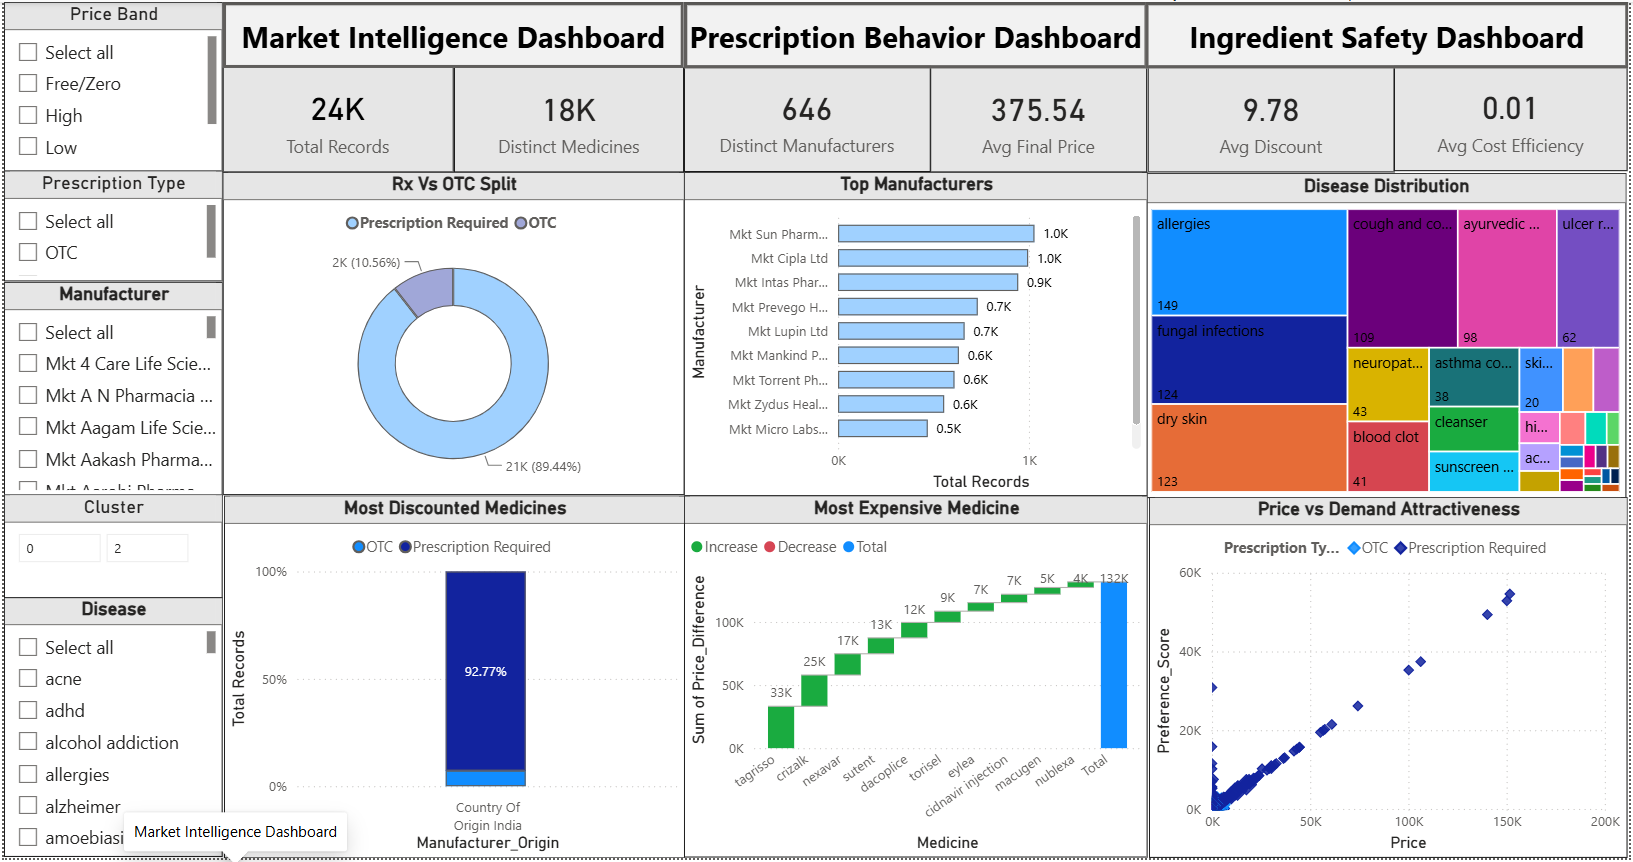

Layout of this report page (visuals, bound fields, positions):
{"tool":"powerbi","page":{"name":"Market Intelligence Dashboard","canvas":[1480,780],"ordinal":0},"visuals":[{"type":"treemap","title":"Disease Distribution","fields":{"Values":["clean_data.Total Records"],"Group":["clean_data.Disease"]},"box":[1040,155.7,438.6,295.7],"z":0},{"type":"card","fields":{"Values":["clean_data.Total Records"]},"box":[199.5,59.2,210.3,95.7],"z":1000},{"type":"card","fields":{"Values":["clean_data.Distinct Medicines"]},"box":[409.5,59.2,209.9,96.1],"z":2000},{"type":"card","fields":{"Values":["clean_data.Distinct Manufacturers"]},"box":[619.8,58.7,224.5,96.8],"z":3000},{"type":"card","fields":{"Values":["clean_data.Avg Final Price"]},"box":[844.5,59.2,197.6,96.1],"z":4000},{"type":"card","fields":{"Values":["clean_data.Avg Discount"]},"box":[1042.1,59.2,225,96.1],"z":5000},{"type":"card","fields":{"Values":["clean_data.Avg Cost Efficiency"]},"box":[1267.1,58.6,212.9,95.7],"z":6000},{"type":"clusteredBarChart","title":"Top Manufacturers","fields":{"Y":["clean_data.Total Records"],"Category":["clean_data.Manufacturer"]},"box":[619.4,155.3,422.6,295],"z":7000},{"type":"scatterChart","title":"Price vs Demand Attractiveness","fields":{"X":["clean_data.Price"],"Y":["clean_data.Preference_Score"],"Series":["clean_data.Prescription Type"],"Size":["Sum(clean_data.Ingredient_Count)"]},"box":[1042.9,451.4,435.7,328.6],"z":8000},{"type":"hundredPercentStackedColumnChart","title":"Most Discounted Medicines","fields":{"Series":["clean_data.Prescription Type"],"Category":["clean_data.Manufacturer_Origin"],"Y":["clean_data.Total Records"]},"box":[200,450,420,330],"z":9000},{"type":"waterfallChart","title":"Most Expensive Medicine","fields":{"Y":["Sum(clean_data.Price_Difference)"],"Category":["clean_data.Medicine"]},"box":[619.4,450.3,422.6,329.3],"z":10000},{"type":"slicer","title":"Disease","fields":{"Values":["clean_data.Disease"]},"box":[0,542.7,199,236.6],"z":11000},{"type":"slicer","title":"Manufacturer","fields":{"Values":["clean_data.Manufacturer"]},"box":[0,254.9,199,194.9],"z":12000},{"type":"slicer","title":"Price Band","fields":{"Values":["clean_data.Price Band"]},"box":[0,0,199.4,154.3],"z":13000},{"type":"slicer","title":"Prescription Type","fields":{"Values":["clean_data.Prescription Type"]},"box":[0,154.1,199,100.8],"z":14000},{"type":"slicer","title":"Cluster","fields":{"Values":["clean_data.Cluster"]},"box":[0,448.6,199,94.1],"z":15000},{"type":"donutChart","title":"Rx Vs OTC Split","fields":{"Category":["clean_data.Prescription Type"],"Y":["clean_data.Total Records"]},"box":[199,155.5,420.8,294.4],"z":16000},{"type":"actionButton","box":[199.3,0,420.3,60.4],"z":20000},{"type":"actionButton","box":[619.6,0,422.6,60.5],"z":21000},{"type":"actionButton","box":[1039.8,0,440.4,60.5],"z":22000}]}

Visuals, with their boxes on the page's 1480x780 design canvas (x1, y1, x2, y2). These are canvas units, not pixel positions in the 1633x862 screenshot, which may show the page scaled, cropped or inside an application window:
"Disease Distribution" treemap: (x1=1040, y1=156, x2=1479, y2=451)
card - clean_data.Total Records: (x1=200, y1=59, x2=410, y2=155)
card - clean_data.Distinct Medicines: (x1=410, y1=59, x2=619, y2=155)
card - clean_data.Distinct Manufacturers: (x1=620, y1=59, x2=844, y2=156)
card - clean_data.Avg Final Price: (x1=844, y1=59, x2=1042, y2=155)
card - clean_data.Avg Discount: (x1=1042, y1=59, x2=1267, y2=155)
card - clean_data.Avg Cost Efficiency: (x1=1267, y1=59, x2=1480, y2=154)
"Top Manufacturers" clusteredBarChart: (x1=619, y1=155, x2=1042, y2=450)
"Price vs Demand Attractiveness" scatterChart: (x1=1043, y1=451, x2=1479, y2=780)
"Most Discounted Medicines" hundredPercentStackedColumnChart: (x1=200, y1=450, x2=620, y2=780)
"Most Expensive Medicine" waterfallChart: (x1=619, y1=450, x2=1042, y2=780)
"Disease" slicer: (x1=0, y1=543, x2=199, y2=779)
"Manufacturer" slicer: (x1=0, y1=255, x2=199, y2=450)
"Price Band" slicer: (x1=0, y1=0, x2=199, y2=154)
"Prescription Type" slicer: (x1=0, y1=154, x2=199, y2=255)
"Cluster" slicer: (x1=0, y1=449, x2=199, y2=543)
"Rx Vs OTC Split" donutChart: (x1=199, y1=156, x2=620, y2=450)
actionButton: (x1=199, y1=0, x2=620, y2=60)
actionButton: (x1=620, y1=0, x2=1042, y2=60)
actionButton: (x1=1040, y1=0, x2=1480, y2=60)
